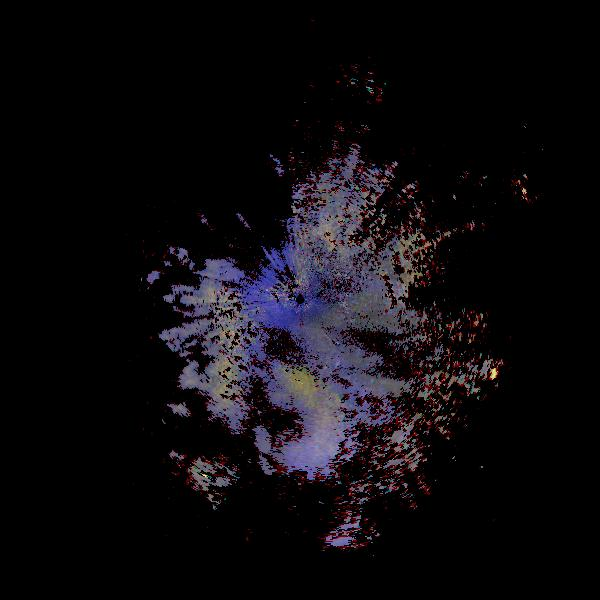roost: (216, 353, 351, 488)
